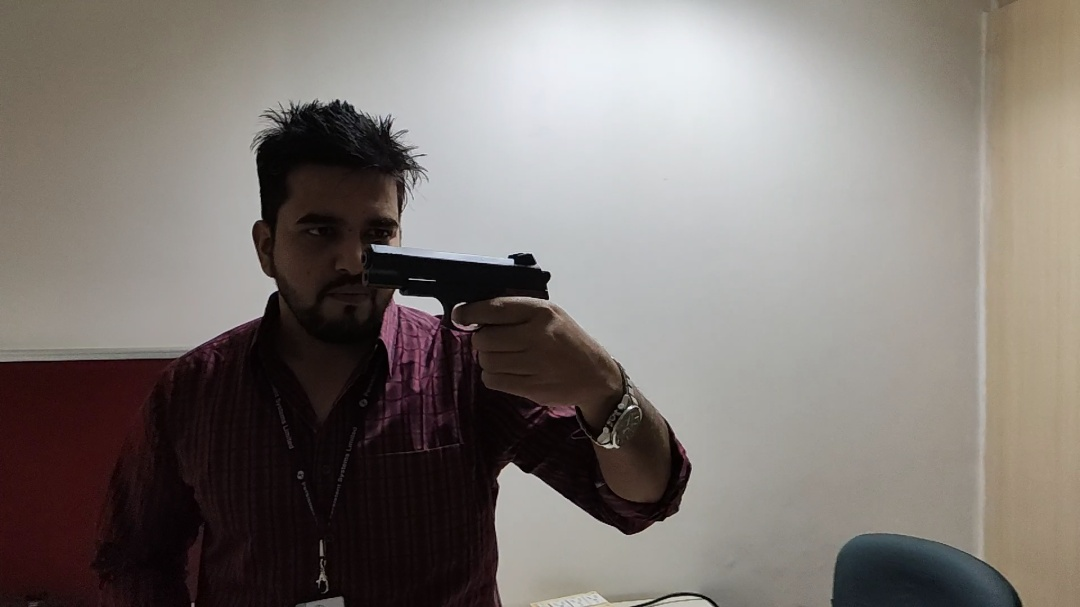gun: (359, 241, 561, 392)
